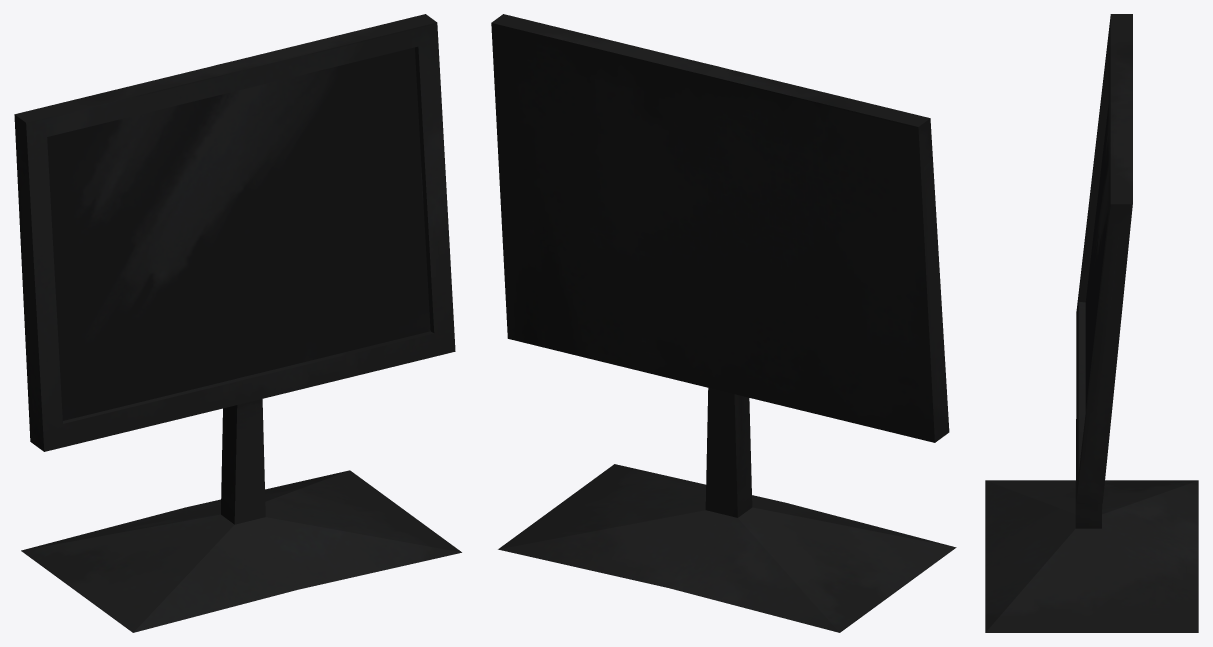
The model's file is monitor.fbx.
3 renders of one model, left to right at view 1: azimuth 30°, elevation 25°; view 2: azimuth 150°, elevation 25°; view 3: azimuth 270°, elevation 25°, orthographic. The views are drawn at different scales.
Visible parts, largest first — view 1: monitor; view 2: monitor; view 3: monitor.
Part boxes in pixels (bbox=[...]): monitor: bbox=[14, 14, 461, 632]; monitor: bbox=[491, 14, 956, 632]; monitor: bbox=[985, 14, 1198, 632].
Size of the model in its own units: 59.16 by 64.85 by 28.02.
